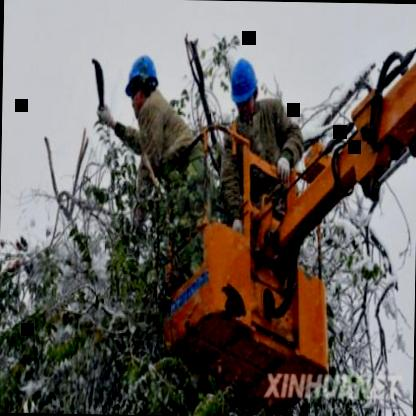helmet: (124, 48, 159, 117), (226, 51, 260, 122)
